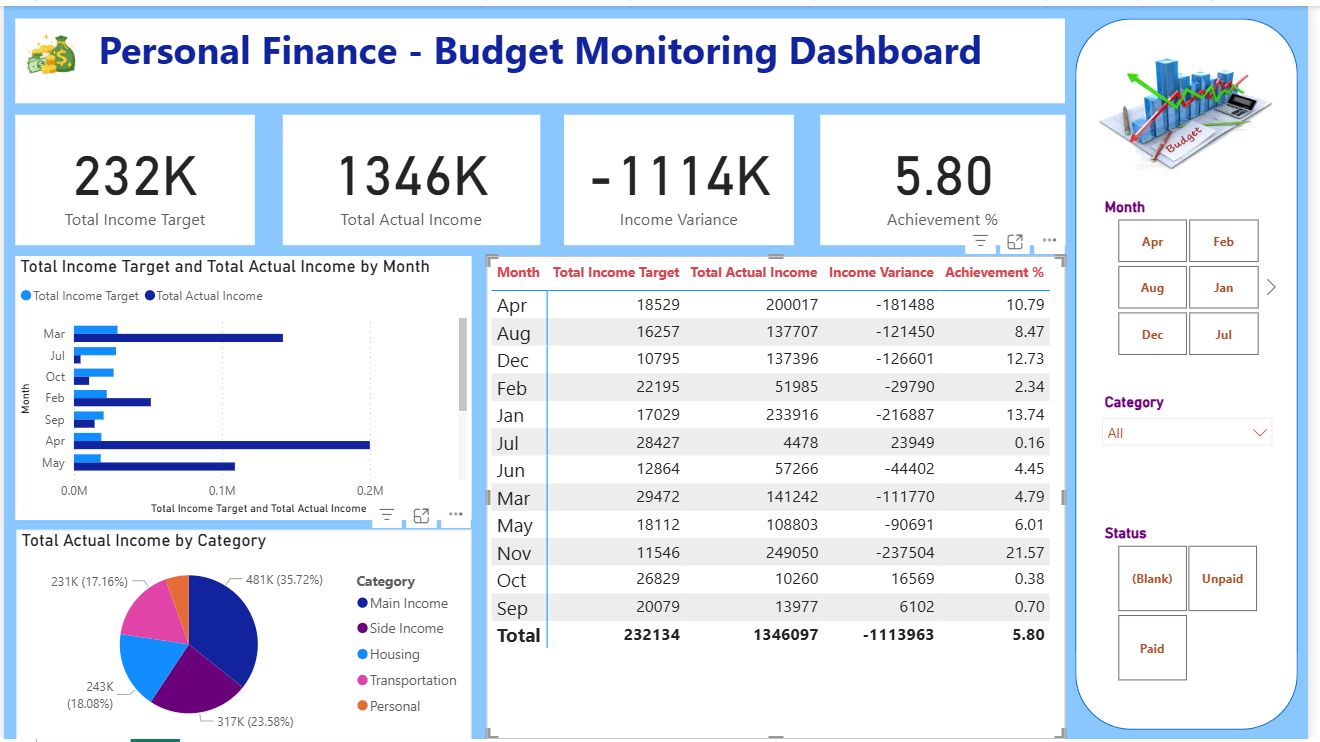

This screenshot's page, from the dashboard's own definition file:
{"tool":"powerbi","page":{"name":"Page 1","canvas":[1280,720],"ordinal":0},"visuals":[{"type":"textbox","box":[11,12.3,1030.7,83.4],"z":0},{"type":"image","box":[11,12.3,71.2,68.7],"z":1000},{"type":"shape","box":[1051.5,12.3,218.4,698.2],"z":2000},{"type":"image","box":[1066.3,38,187.7,137.4],"z":3000},{"type":"card","fields":{"Values":["Income Goal.Total Income Target"]},"box":[11,106.7,235.6,127.6],"z":4000},{"type":"card","fields":{"Values":["Main Data.Achievement %"]},"box":[801.2,106.7,240.5,127.6],"z":5000},{"type":"card","fields":{"Values":["Main Data.Income Variance"]},"box":[549.7,106.7,225.8,127.6],"z":6000},{"type":"card","fields":{"Values":["Main Data.Total Actual Income"]},"box":[273.6,106.7,252.8,127.6],"z":7000},{"type":"clusteredBarChart","fields":{"Category":["Income Goal.Month"],"Y":["Income Goal.Total Income Target","Main Data.Total Actual Income"]},"box":[11,245.4,447.9,258.9],"z":8000},{"type":"pieChart","fields":{"Category":["Main Data.Category"],"Y":["Main Data.Total Actual Income"]},"box":[12.3,514.1,446.6,206.1],"z":9000},{"type":"pivotTable","fields":{"Rows":["Income Goal.Month"],"Values":["Income Goal.Total Income Target","Main Data.Total Actual Income","Main Data.Income Variance","Main Data.Achievement %"]},"box":[473.6,245.4,568.1,474.8],"z":10000},{"type":"slicer","fields":{"Values":["Main Data.Month"]},"box":[1067.5,184.1,187.7,165.6],"z":11000},{"type":"slicer","fields":{"Values":["Main Data.Category"]},"box":[1067.5,375.5,187.7,115.3],"z":12000},{"type":"slicer","fields":{"Values":["Main Data.Status"]},"box":[1067.5,504.3,186.5,164.4],"z":13000}]}

Visuals, with their boxes in screenshot pixels (x1, y1, x2, y2), scaled from the page's 1280x720 canvas onto the 1320x742 screenshot:
textbox: BBox(11, 13, 1074, 99)
image: BBox(11, 13, 85, 83)
shape: BBox(1084, 13, 1310, 732)
image: BBox(1100, 39, 1293, 181)
card - Income Goal.Total Income Target: BBox(11, 110, 254, 241)
card - Main Data.Achievement %: BBox(826, 110, 1074, 241)
card - Main Data.Income Variance: BBox(567, 110, 800, 241)
card - Main Data.Total Actual Income: BBox(282, 110, 543, 241)
clusteredBarChart - Income Goal.Month x Income Goal.Total Income Target: BBox(11, 253, 473, 520)
pieChart - Main Data.Category x Main Data.Total Actual Income: BBox(13, 530, 473, 741)
pivotTable - Income Goal.Month x Income Goal.Total Income Target: BBox(488, 253, 1074, 741)
slicer - Main Data.Month: BBox(1101, 190, 1294, 360)
slicer - Main Data.Category: BBox(1101, 387, 1294, 506)
slicer - Main Data.Status: BBox(1101, 520, 1293, 689)
